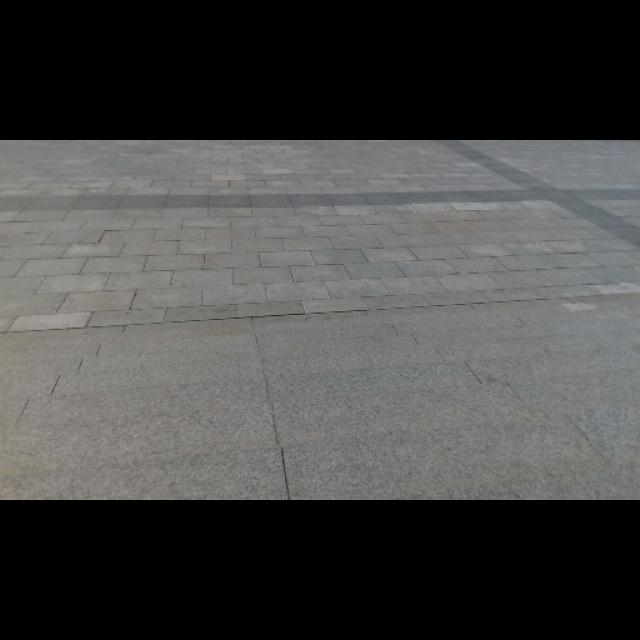stair: (5, 331, 627, 489)
